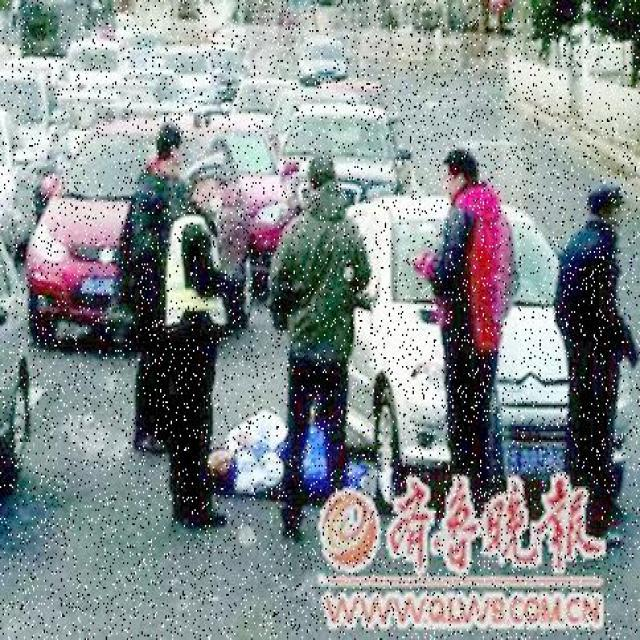fall: (205, 405, 390, 504)
